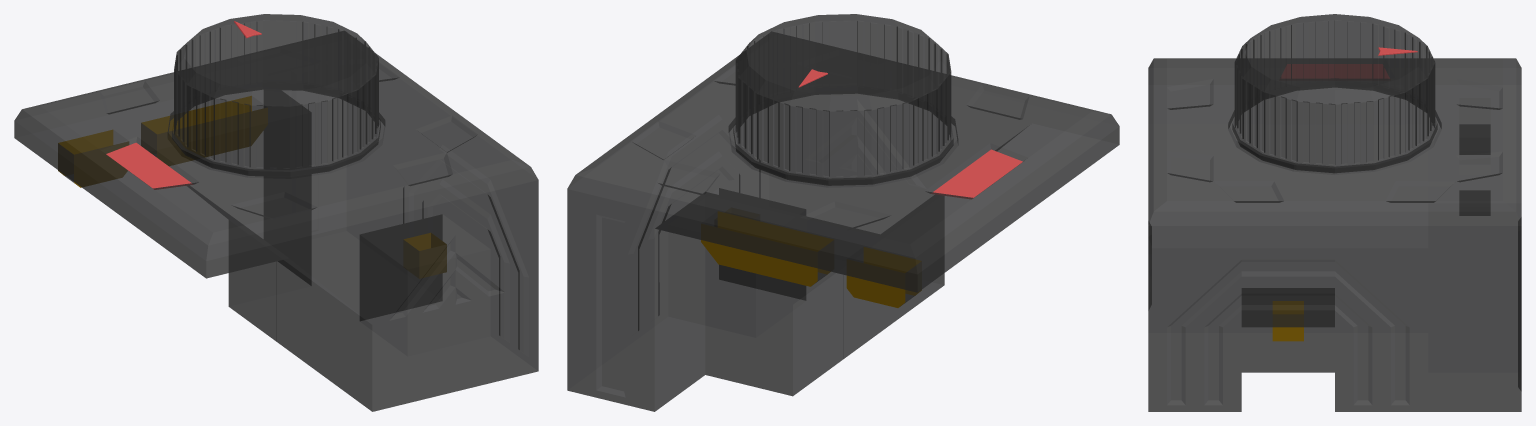
File: attachment004.gltf
3 renders of one model, left to right at view 1: azimuth 30°, elevation 25°; view 2: azimuth 150°, elevation 25°; view 3: azimuth 270°, elevation 25°, orthographic. The views are drawn at different scales.
Parts seen in each view (by area): view 1: Attatchment004; view 2: Attatchment004; view 3: Attatchment004.
Part boxes in pixels (bbox=[...]): Attatchment004: bbox=[14, 14, 538, 411]; Attatchment004: bbox=[567, 14, 1119, 411]; Attatchment004: bbox=[1148, 14, 1521, 411].
Size of the model in its own units: 0.1 by 0.0834 by 0.1.
